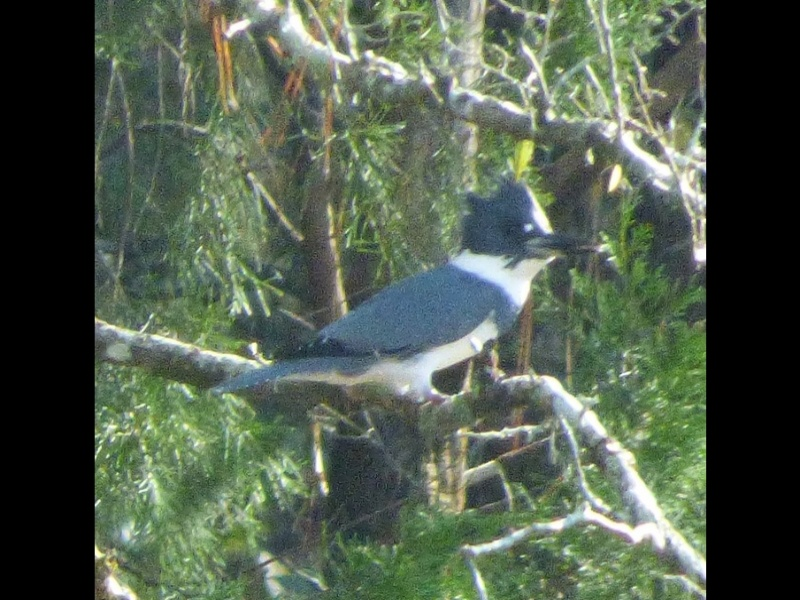kingfisher: (207, 166, 598, 410)
